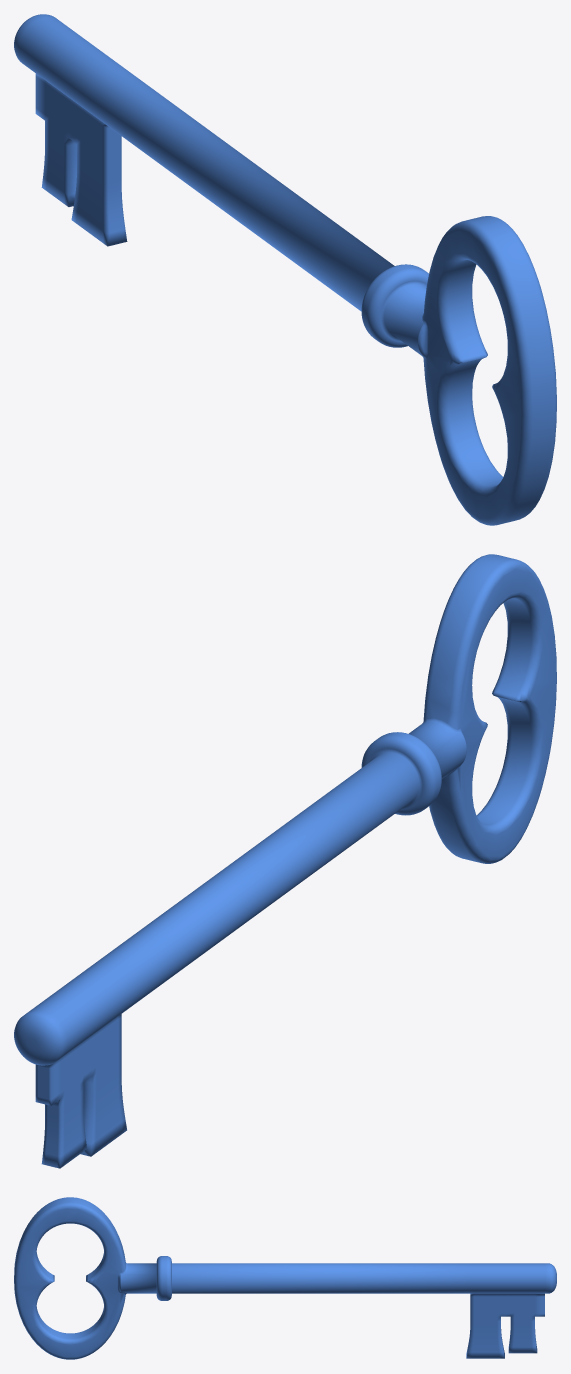
File: Llave.fbx
The picture shows the model from 3 angles, top to bottom: view 1: azimuth 30°, elevation 25°; view 2: azimuth 150°, elevation 25°; view 3: azimuth 270°, elevation 25°; orthographic projection. The views are drawn at different scales.
Parts seen in each view (by area): view 1: Llave; view 2: Llave; view 3: Llave.
Part boxes in pixels (x1,y1,x2,y2): Llave: (14,14,556,525); Llave: (14,554,556,1168); Llave: (14,1197,556,1359).
Size of the model in its own units: 26.9 by 103 by 324.
